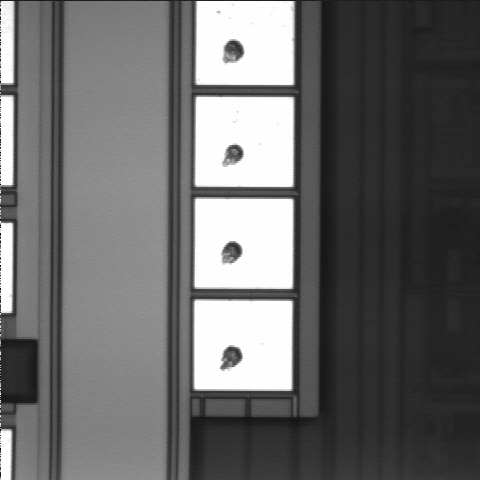pad: (194, 300, 292, 391), (195, 97, 294, 187), (195, 199, 293, 289)
